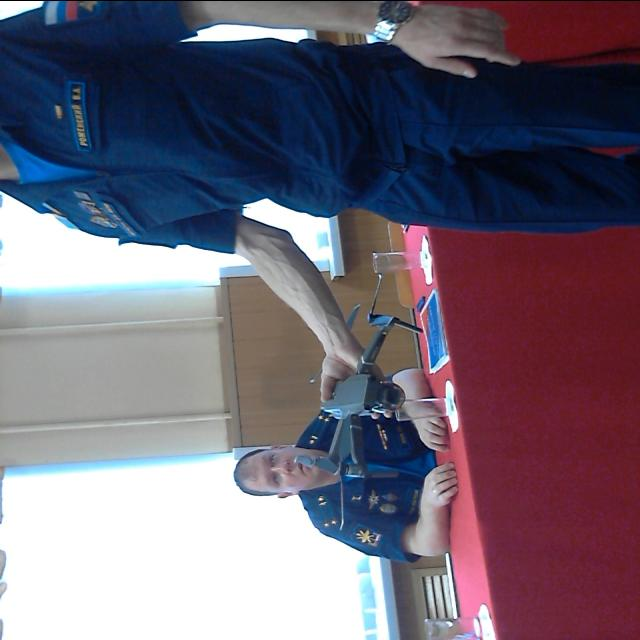drone: (291, 267, 418, 515)
